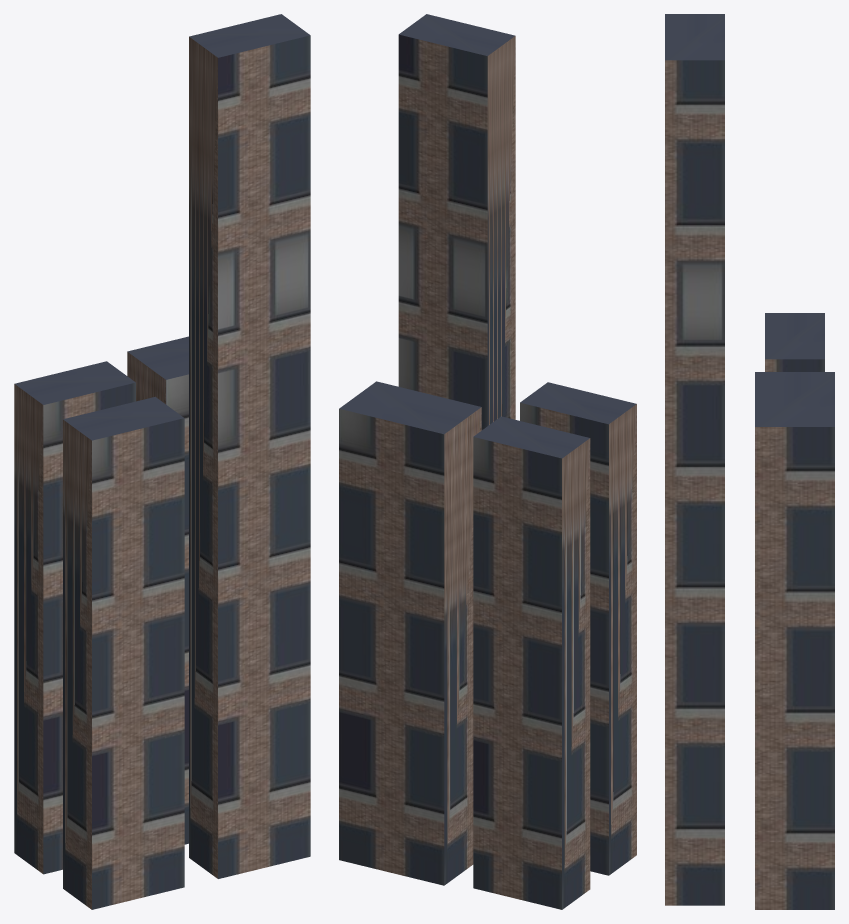
File: block_11.obj
3 views of the same model, side by side, from view 1: azimuth 30°, elevation 25°; view 2: azimuth 150°, elevation 25°; view 3: azimuth 270°, elevation 25° (orthographic). The views are drawn at different scales.
Visible parts, largest first — view 1: b3, b1, b0, b2; view 2: b2, b0, b3, b1; view 3: b3, b2, b0.
Part boxes in pixels (box(x1,y1,x2,y2)): b3: box(189, 14, 310, 878); b1: box(63, 397, 184, 909); b0: box(14, 361, 135, 874); b2: box(127, 336, 188, 844); b2: box(339, 381, 481, 885); b0: box(473, 416, 590, 909); b3: box(398, 14, 515, 430); b1: box(520, 382, 636, 875); b3: box(665, 14, 724, 905); b2: box(755, 372, 834, 909); b0: box(765, 313, 824, 371).
Size of the model in its own units: 4.05 by 14 by 2.55.
